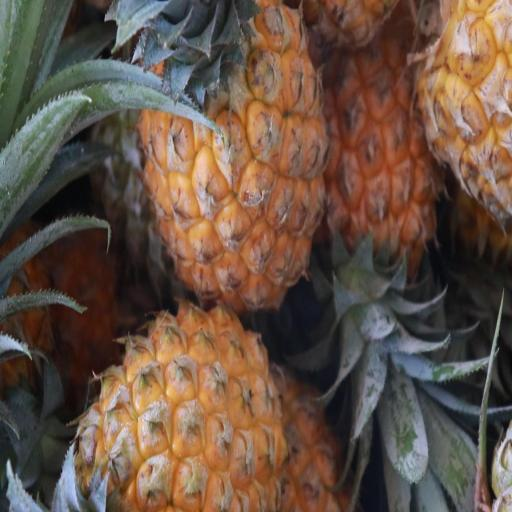Pineapple - v8 v1: (144, 12, 324, 308), (81, 305, 285, 511), (315, 20, 443, 268)
